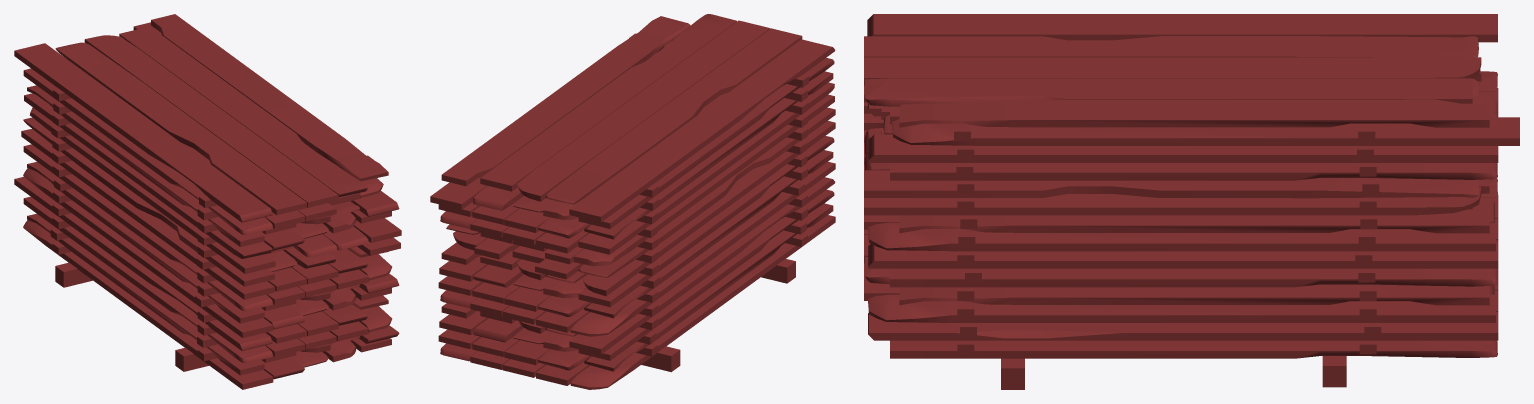
Rendered from SM_WoodPlankPack08.fbx.
The picture shows the model from 3 angles, left to right: view 1: azimuth 30°, elevation 25°; view 2: azimuth 150°, elevation 25°; view 3: azimuth 270°, elevation 25°; orthographic projection. The views are drawn at different scales.
Visible parts, largest first — view 1: WoodPlankPack08; view 2: WoodPlankPack08; view 3: WoodPlankPack08.
Boxes of the visible parts, bbox=[...] form: WoodPlankPack08: bbox=[14, 14, 401, 389]; WoodPlankPack08: bbox=[430, 14, 835, 389]; WoodPlankPack08: bbox=[864, 14, 1519, 389].
Size of the model in its own units: 91.85 by 88.38 by 202.
